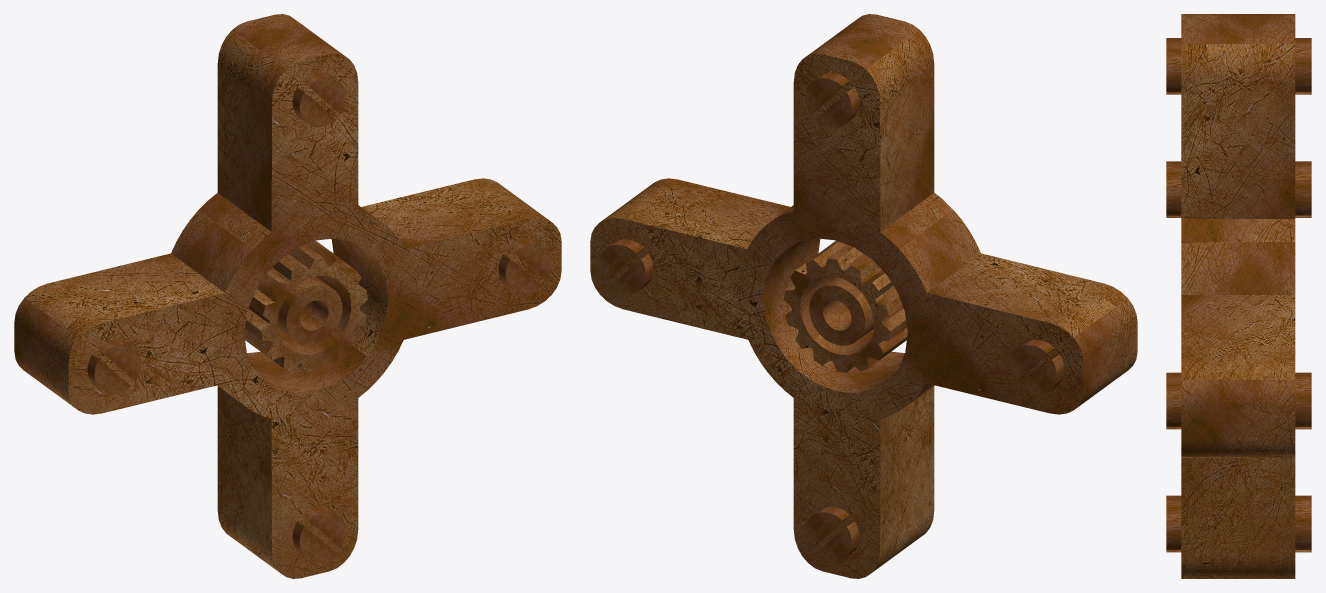
The model's file is Plus.FBX.
3 views of the same model, side by side, from view 1: azimuth 30°, elevation 25°; view 2: azimuth 150°, elevation 25°; view 3: azimuth 270°, elevation 25° (orthographic). The views are drawn at different scales.
Parts seen in each view (by area): view 1: Plus003, Cogwheel_231, Screw_745, Screw_517, Screw_747, Screw_495; view 2: Plus003, Cogwheel_231, Screw_495, Screw_745, Screw_747, Screw_517; view 3: Plus003, Screw_517, Screw_495, Screw_745, Screw_747.
Part boxes in pixels (x1,y1,x2,y2): Plus003: [14, 14, 561, 578]; Cogwheel_231: [244, 240, 367, 372]; Screw_745: [87, 339, 140, 394]; Screw_517: [292, 506, 346, 561]; Screw_747: [292, 72, 346, 127]; Screw_495: [498, 239, 551, 294]; Plus003: [590, 14, 1137, 578]; Cogwheel_231: [783, 240, 907, 372]; Screw_495: [599, 239, 653, 294]; Screw_745: [1010, 339, 1064, 394]; Screw_747: [805, 72, 859, 127]; Screw_517: [805, 506, 859, 561]; Plus003: [1181, 14, 1295, 578]; Screw_517: [1166, 495, 1311, 552]; Screw_495: [1166, 372, 1311, 429]; Screw_745: [1166, 161, 1311, 217]; Screw_747: [1166, 38, 1311, 94].
Size of the model in its own units: 53.3 by 53.42 by 12.89.
1 material, 1 textured.
